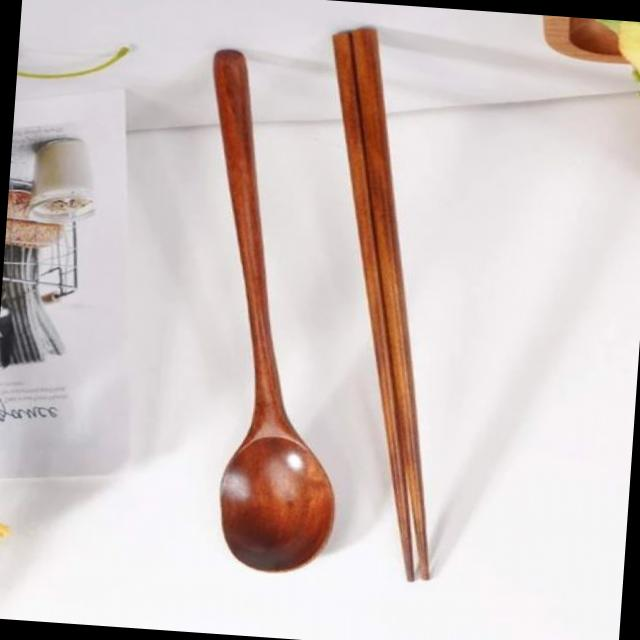spoon: (201, 40, 352, 582)
